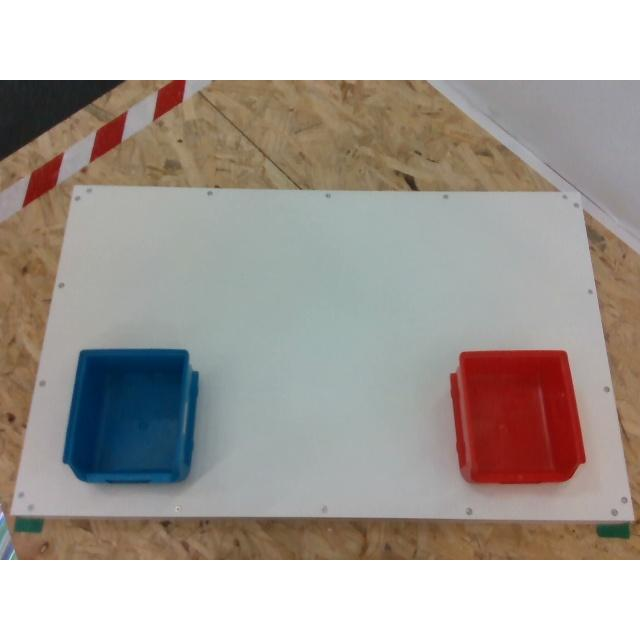container_box_blue: (64, 348, 200, 480)
container_box_red: (451, 351, 585, 482)
